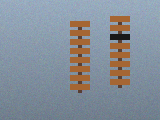defect: (110, 33, 130, 41)
insulator: (68, 19, 92, 94), (108, 14, 132, 89)
